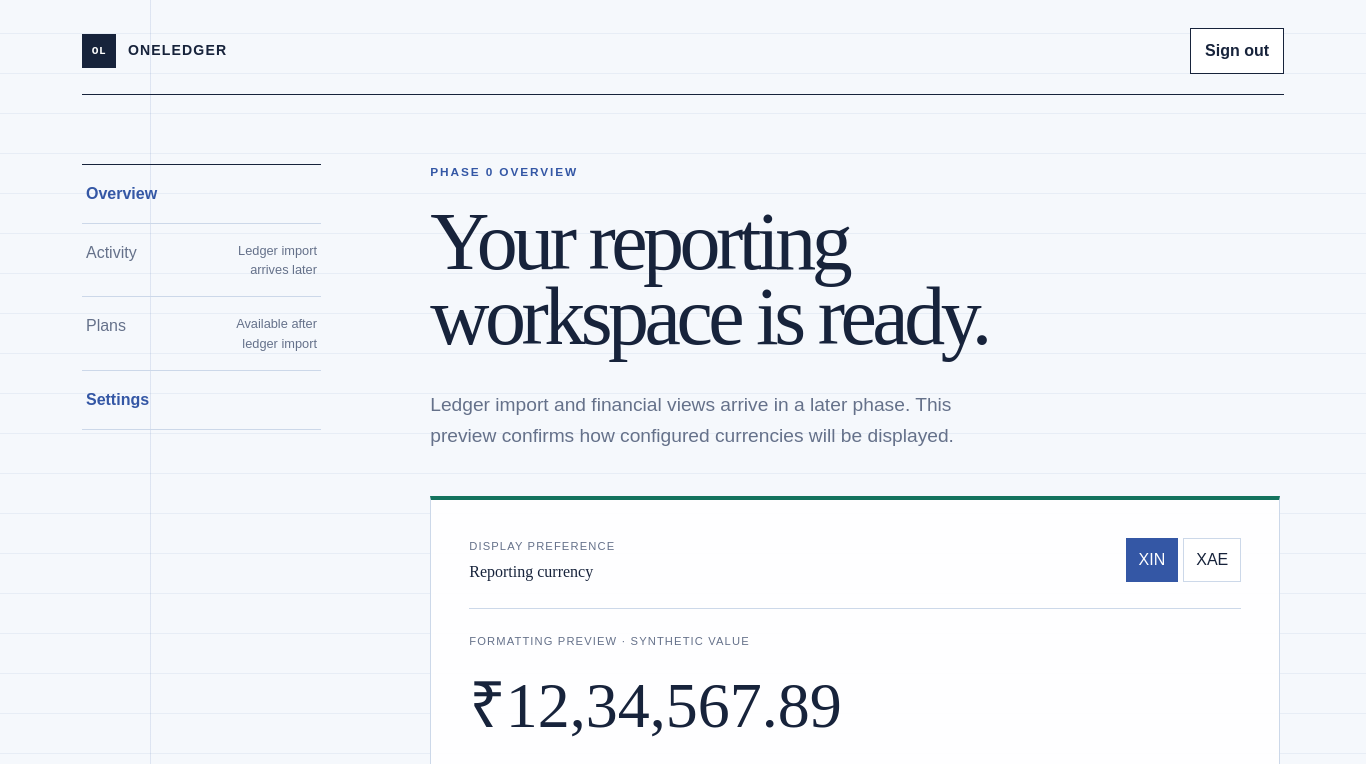
Test: authenticated workspace › clears the owner view when logout returns 401 and routes to /login
Expected: the text "₹12,34,567.89" is shown, [469,670,842,741]
Click the button "Sign out" at (1237, 51), box [1190,28,1284,74]
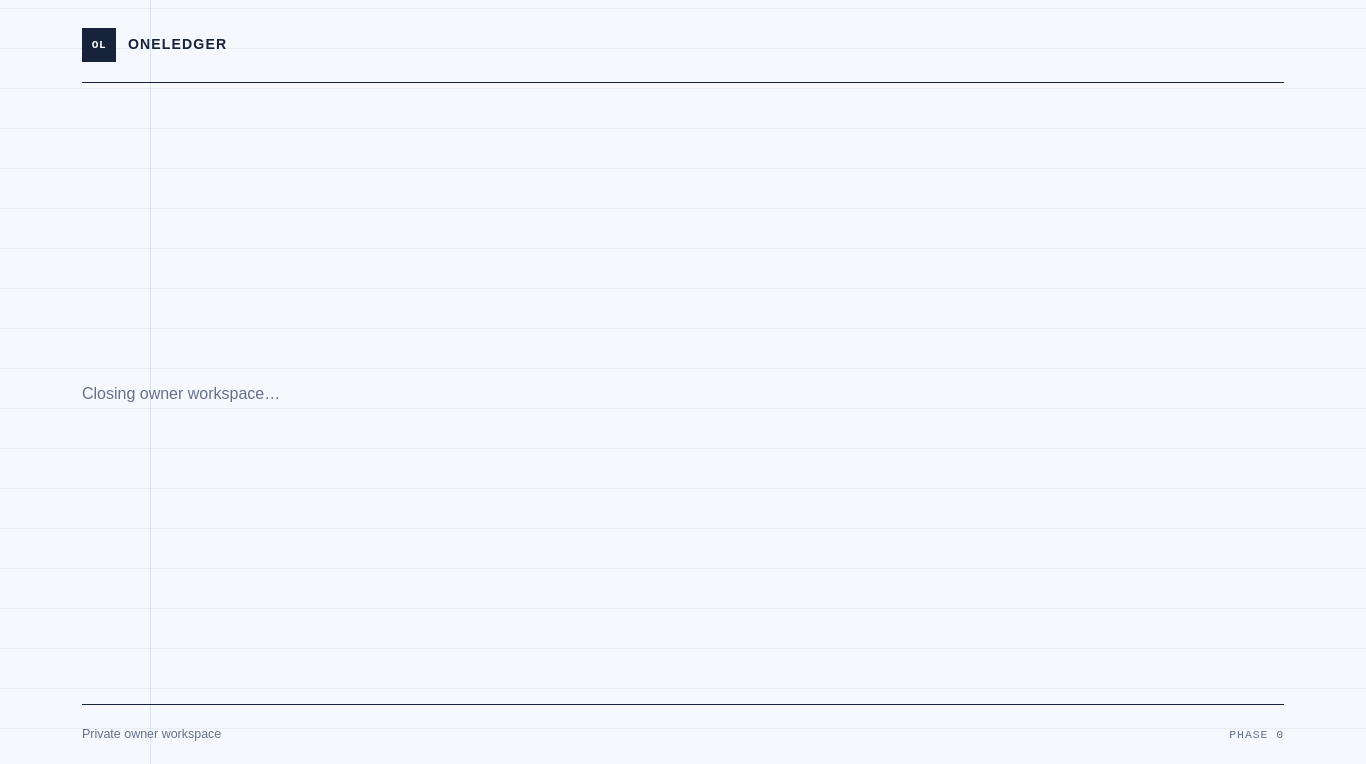
Result: the text "₹12,34,567.89" is gone
Result: the button "Sign out" is gone
